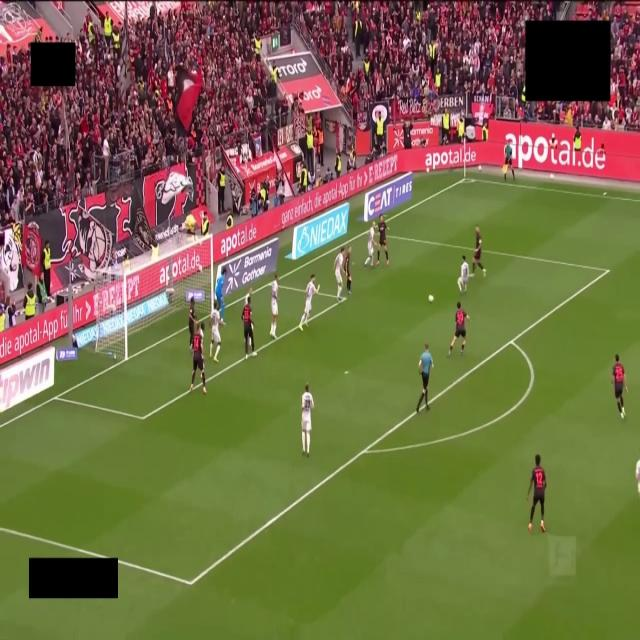ball: (428, 295, 433, 303)
player: (527, 455, 546, 532), (448, 302, 469, 357), (299, 274, 319, 330), (190, 324, 206, 393), (612, 354, 628, 418), (242, 297, 256, 359), (302, 384, 314, 456), (471, 226, 486, 277), (215, 267, 226, 325), (210, 301, 220, 362), (376, 215, 388, 265), (334, 247, 344, 301), (270, 274, 278, 338), (188, 296, 197, 348), (365, 221, 375, 266), (458, 256, 469, 292), (344, 246, 352, 294)
referee: (416, 344, 433, 412)
